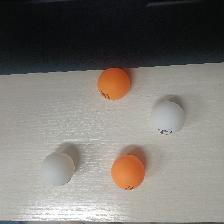WhiteBall: (147, 100, 185, 135), (38, 151, 75, 186)
YellowBall: (110, 153, 146, 190), (95, 67, 129, 100)
